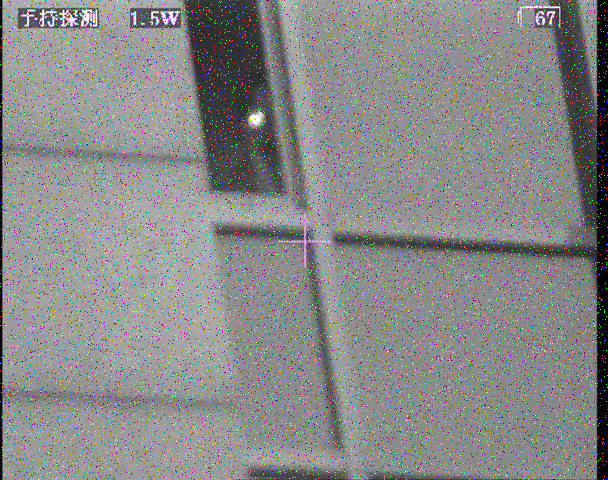my: (246, 110, 267, 129)
